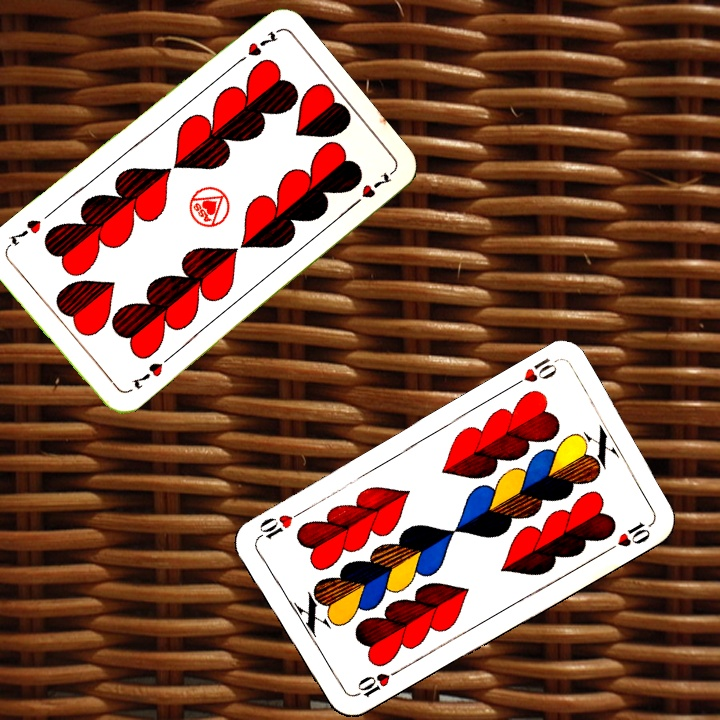H10: (505, 354, 560, 392), (348, 665, 403, 700)
H7: (230, 27, 281, 68), (128, 358, 166, 392)
